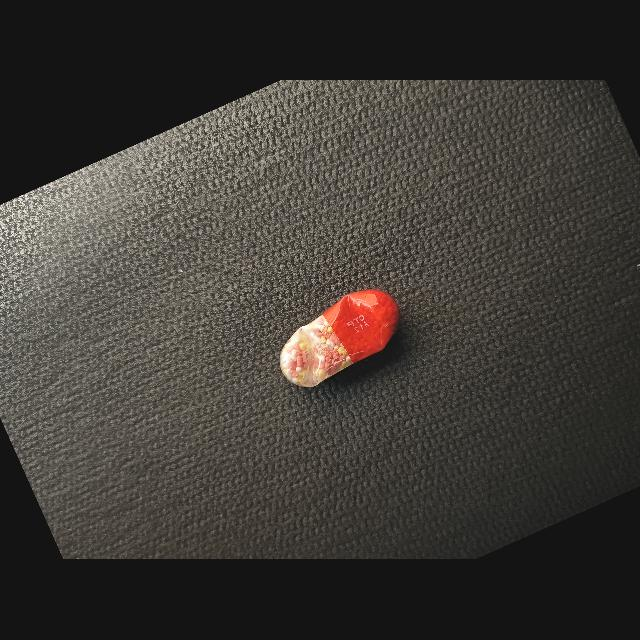Defective Capsule: (279, 290, 400, 388)
